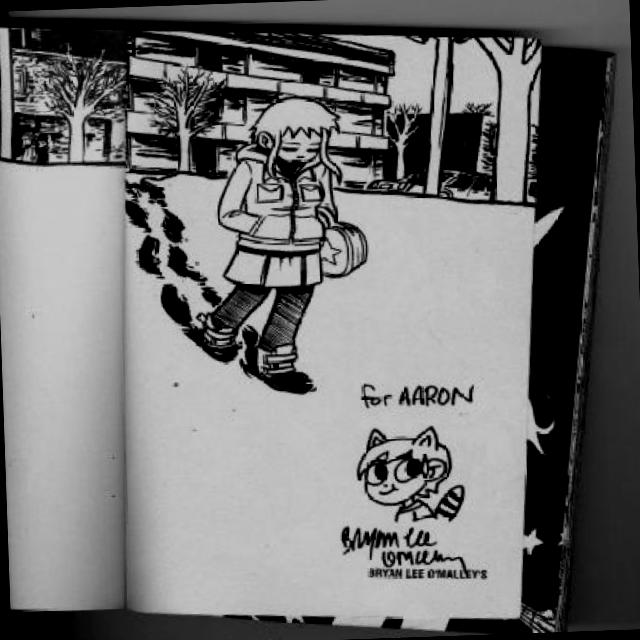Person: (183, 90, 350, 396), (354, 421, 465, 525)
